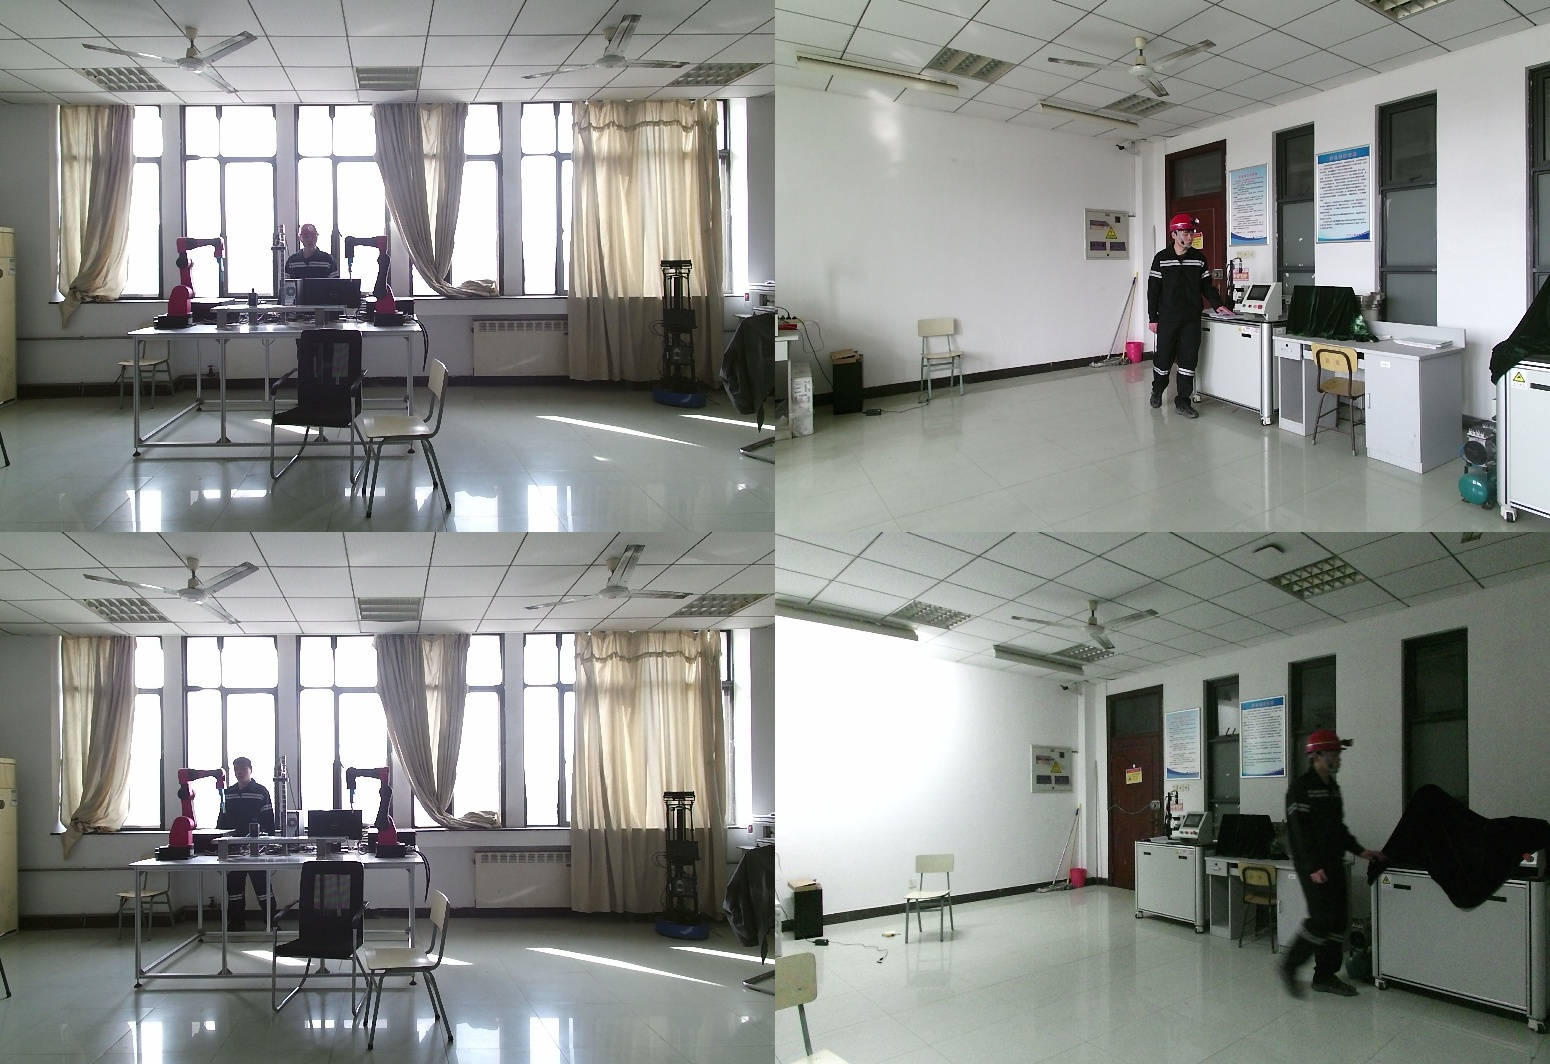person: (1266, 730, 1378, 995), (1143, 215, 1226, 420), (216, 760, 280, 932), (283, 222, 342, 281)
